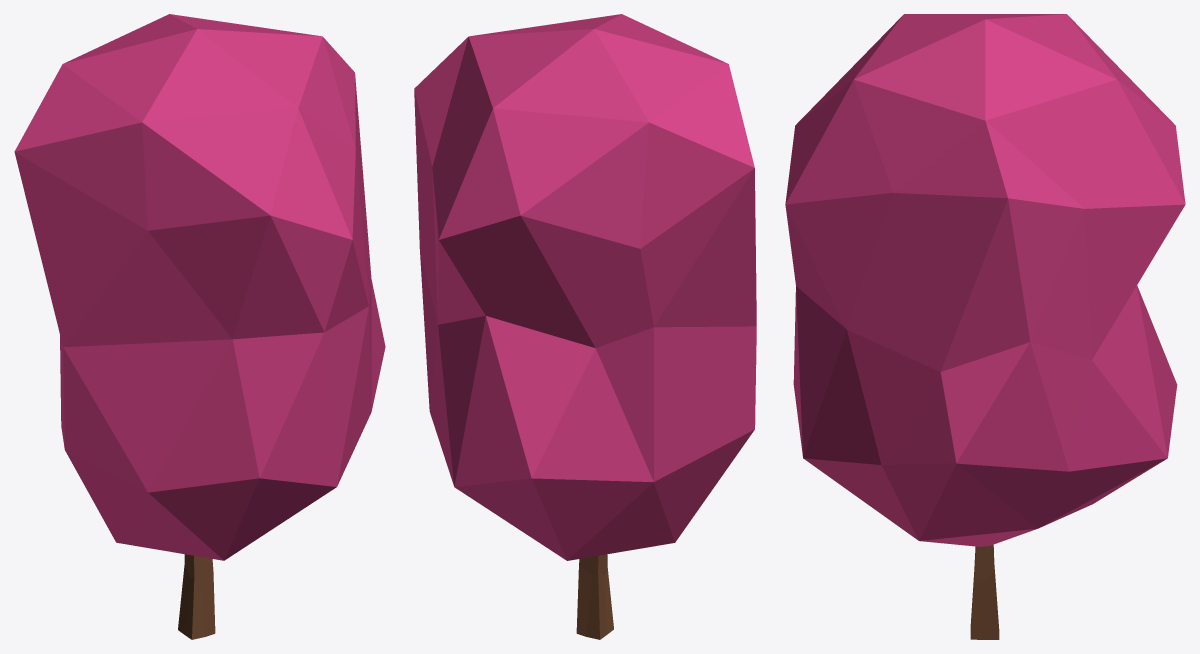
The model's file is Tree_7_Pink.fbx.
The picture shows the model from 3 angles, left to right: view 1: azimuth 30°, elevation 25°; view 2: azimuth 150°, elevation 25°; view 3: azimuth 270°, elevation 25°; orthographic projection. The views are drawn at different scales.
Parts seen in each view (by area): view 1: Tree_7_Pink_Part_1, Tree_7_Pink_Part_2; view 2: Tree_7_Pink_Part_1, Tree_7_Pink_Part_2; view 3: Tree_7_Pink_Part_1, Tree_7_Pink_Part_2.
Part boxes in pixels (x1,y1,x2,y2): Tree_7_Pink_Part_1: (14,14,385,560); Tree_7_Pink_Part_2: (178,554,215,639); Tree_7_Pink_Part_1: (414,14,756,560); Tree_7_Pink_Part_2: (576,554,613,639); Tree_7_Pink_Part_1: (785,14,1185,546); Tree_7_Pink_Part_2: (970,544,999,639).
Size of the model in its own units: 478 by 796 by 468.
